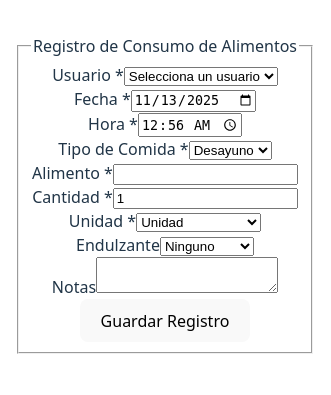
Test: RegistrationForm - Feedback › muestra mensaje de éxito al guardar correctamente
Select "Juan" in the dropdown labelled "Usuario *" at (201, 77), box 124,67 -> 278,86
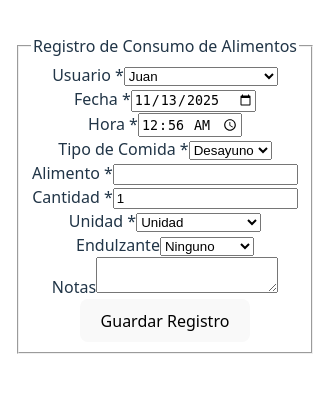
Type "Manzana" into the field labelled "Alimento *" at (205, 174), box 113,164 -> 298,185
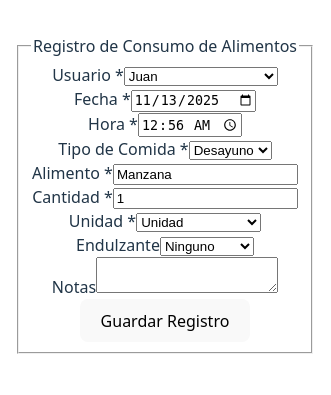
Click the button "Guardar Registro" at (165, 321), box 80,299 -> 250,342
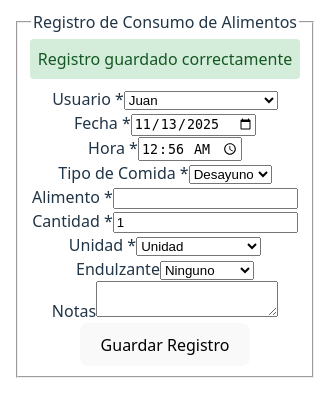
Check: the message shows "guardado correctamente", box 38,48 -> 292,70
